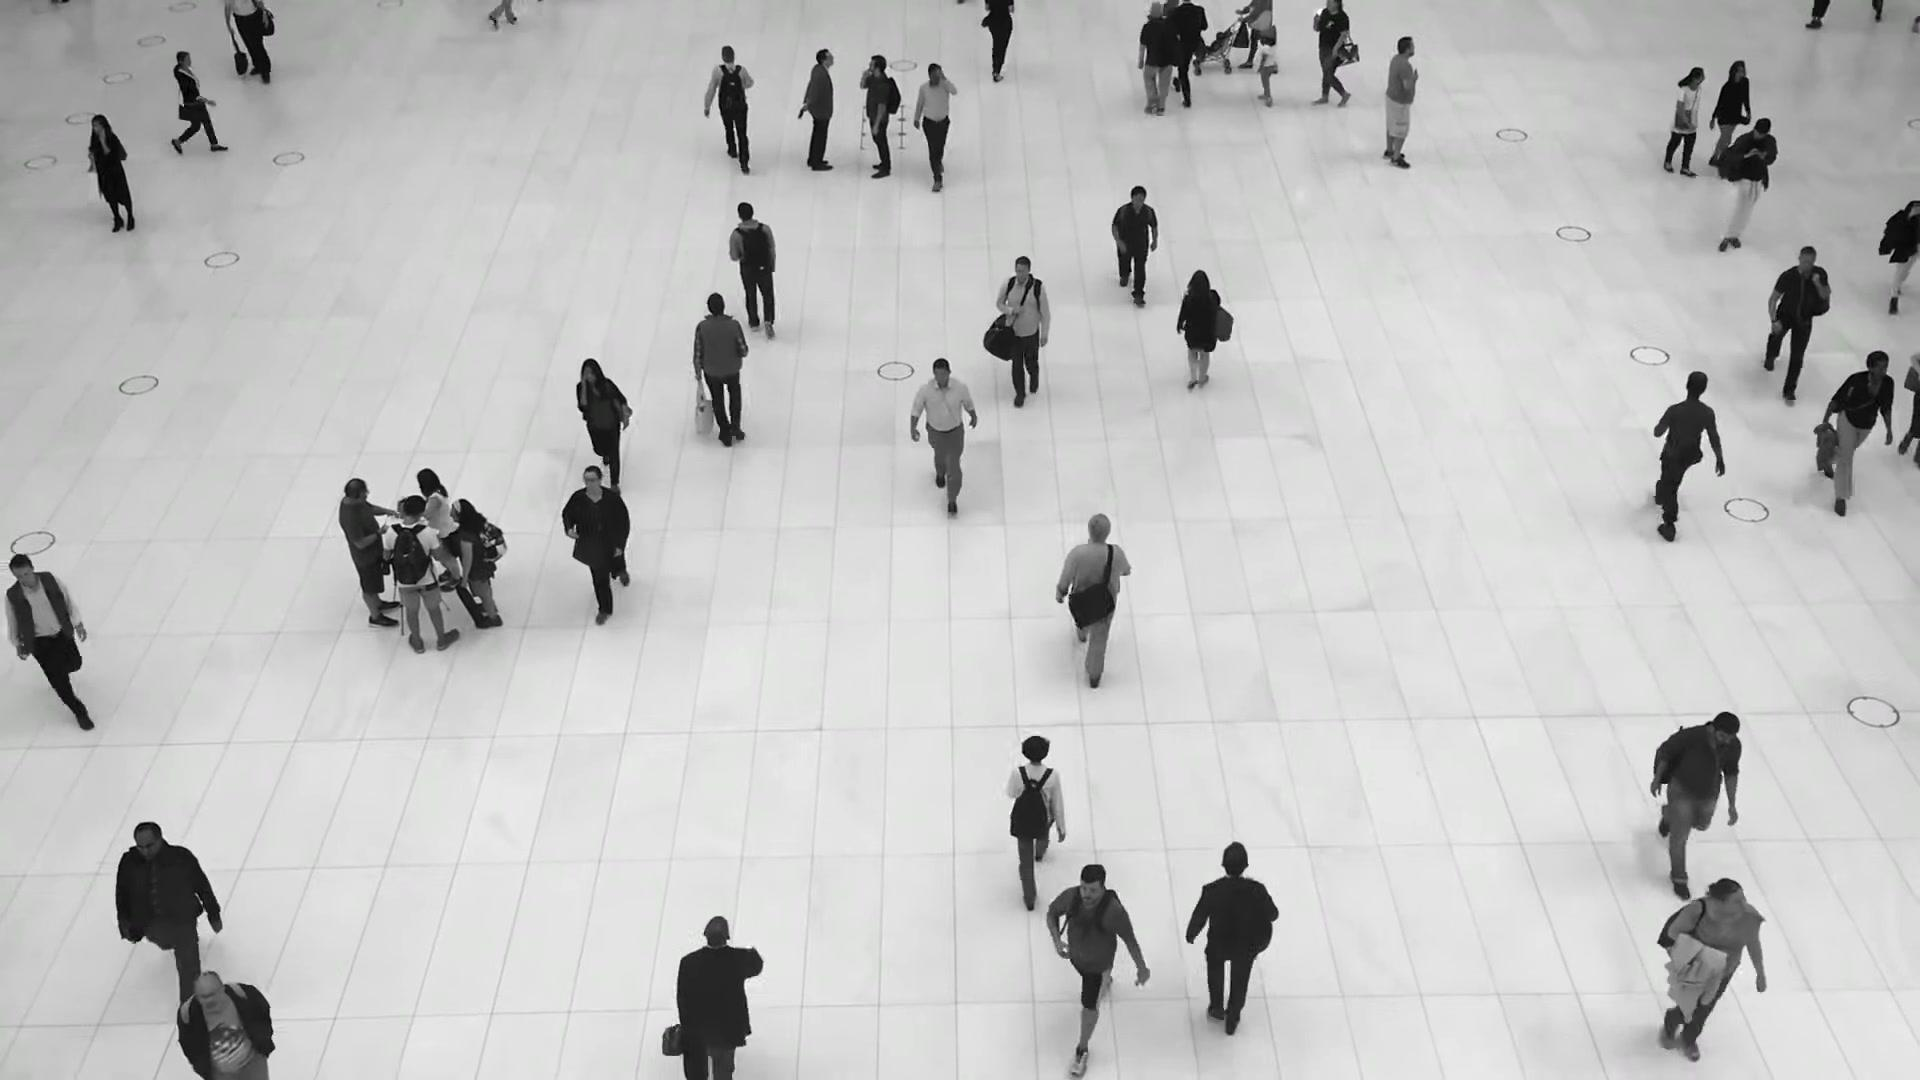person: (1046, 857, 1150, 1080), (119, 818, 216, 1024), (1186, 847, 1278, 1050), (656, 915, 764, 1079), (1645, 710, 1741, 890), (1656, 880, 1757, 1042), (5, 550, 93, 730), (560, 463, 643, 622), (1054, 513, 1132, 680), (1816, 347, 1893, 513), (383, 494, 459, 653), (176, 966, 279, 1079), (1652, 370, 1723, 534), (1761, 243, 1833, 395), (1005, 734, 1067, 900), (915, 354, 981, 506), (338, 477, 401, 629), (692, 295, 749, 457), (996, 257, 1052, 412), (1713, 116, 1774, 256), (731, 202, 786, 344), (450, 498, 502, 627), (574, 357, 632, 473), (1107, 183, 1161, 303), (706, 45, 755, 173), (170, 51, 230, 155), (1171, 273, 1220, 397), (1659, 65, 1710, 179), (912, 60, 958, 191), (87, 113, 135, 232), (1134, 4, 1181, 119), (415, 468, 459, 592), (859, 55, 901, 180), (1382, 34, 1420, 168), (1699, 60, 1747, 165), (1310, 0, 1350, 108), (799, 48, 835, 172), (1168, 0, 1208, 109), (1239, 0, 1278, 69), (1253, 34, 1278, 104)
